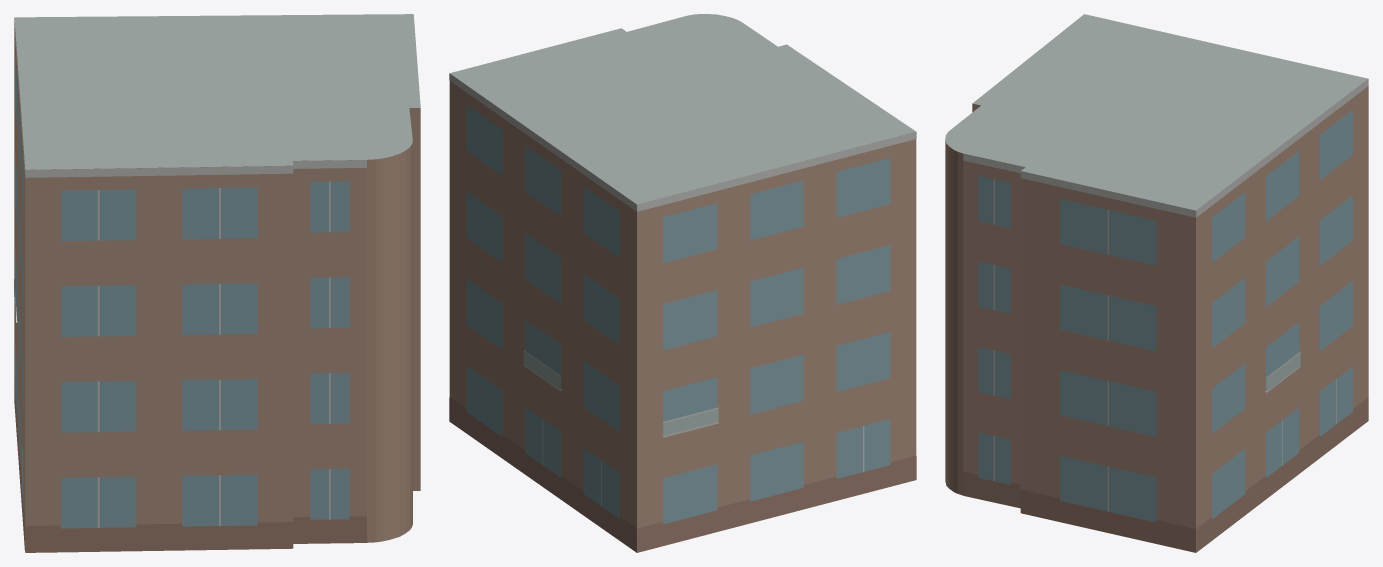
File: residential-73e23351-1df8-4a51-be9a-831d0895f512.glb
3 renders of one model, left to right at view 1: azimuth 30°, elevation 25°; view 2: azimuth 150°, elevation 25°; view 3: azimuth 270°, elevation 25°, orthographic. The views are drawn at different scales.
Parts seen in each view (by area): view 1: residential-73e23351-1df8-4a51-be9a-831d0895f512.tmp; view 2: residential-73e23351-1df8-4a51-be9a-831d0895f512.tmp; view 3: residential-73e23351-1df8-4a51-be9a-831d0895f512.tmp.
Part boxes in pixels (x1,y1,x2,y2): residential-73e23351-1df8-4a51-be9a-831d0895f512.tmp: (14, 14, 420, 552); residential-73e23351-1df8-4a51-be9a-831d0895f512.tmp: (449, 14, 916, 552); residential-73e23351-1df8-4a51-be9a-831d0895f512.tmp: (945, 14, 1368, 552).
Bounding box in the file's own units: 14.43 × 11.7 × 13.12.
